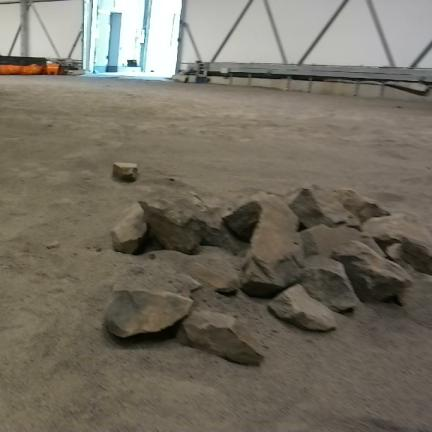Rock: (139, 188, 242, 254), (241, 194, 303, 297), (331, 242, 412, 302), (177, 310, 263, 364), (105, 289, 193, 337), (362, 215, 431, 275), (300, 256, 359, 311), (268, 285, 335, 331), (289, 185, 359, 227), (300, 225, 384, 257), (223, 193, 269, 241), (334, 189, 390, 223), (111, 203, 148, 254), (113, 162, 137, 182), (176, 274, 201, 293)
